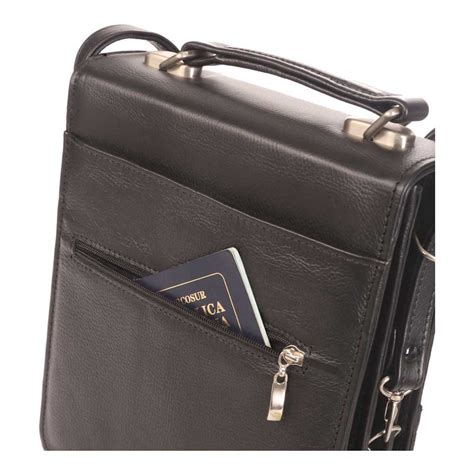cuero: (38, 23, 437, 453)
